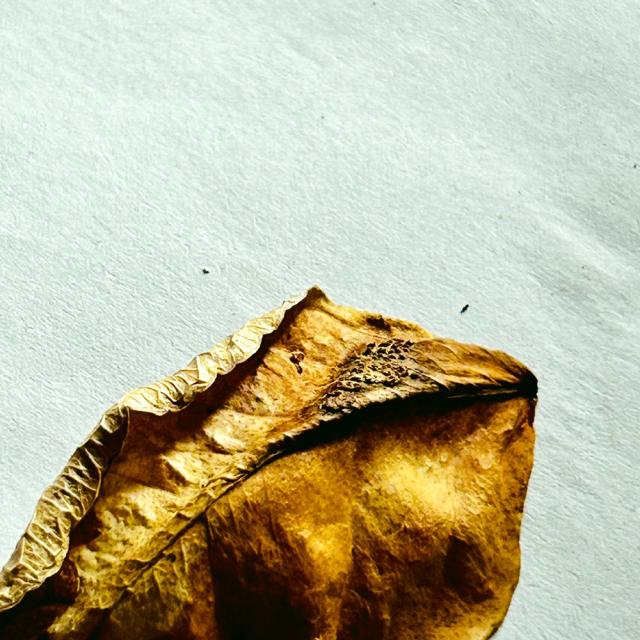DryLeaf_Lemon: (0, 287, 537, 639)
